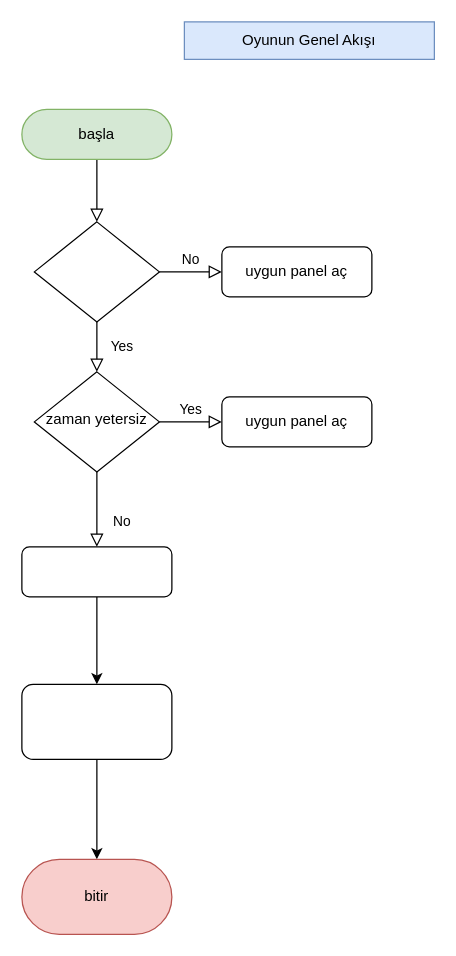
Some shapes in this 456 by 956 pixel diagram are drawn without their labels. Here are the shapes that lost their labels. From the top down, the centre of each, then its label:
At (96,271): "puan yetersiz".
At (96,571): "sürkleme işlemi kontrolü".
At (96,721): "uygun animasyonların oynatılması".
